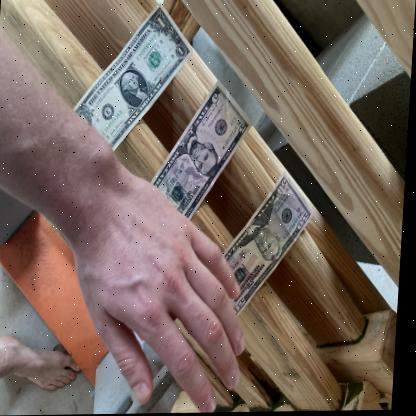fifty-front: (200, 171, 313, 318)
five-front: (144, 84, 253, 227)
one-front: (65, 4, 195, 153)
